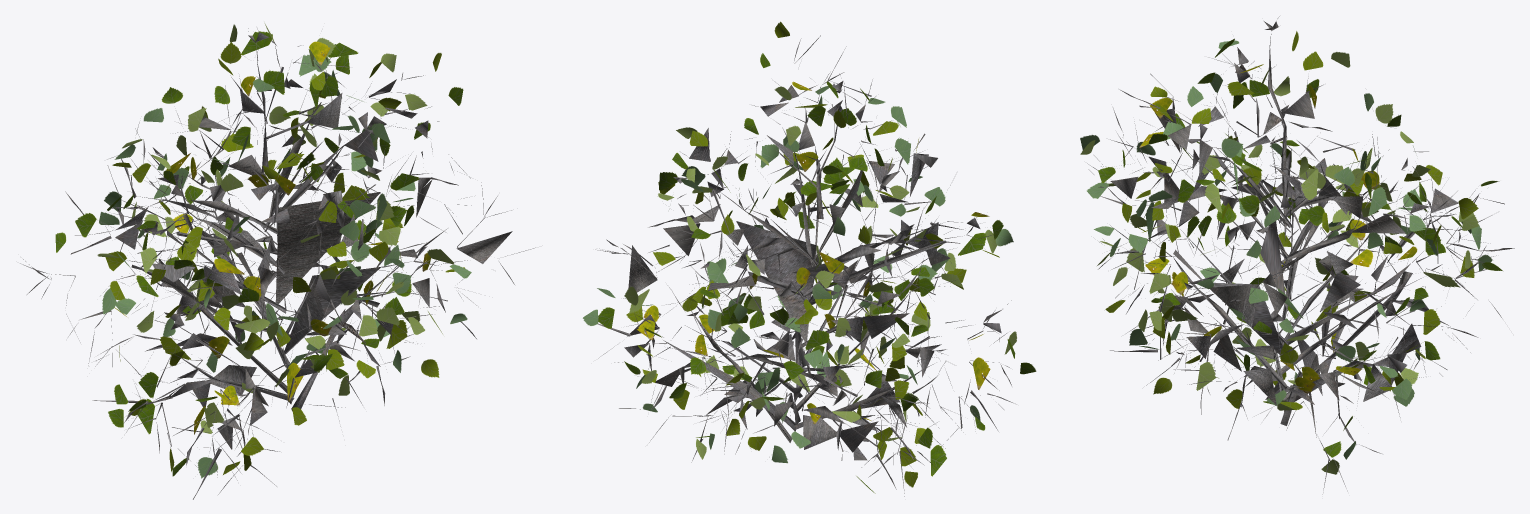
File: bush-far.glb
3 views of the same model, side by side, from view 1: azimuth 30°, elevation 25°; view 2: azimuth 150°, elevation 25°; view 3: azimuth 270°, elevation 25° (orthographic). The views are drawn at different scales.
Parts seen in each view (by area): view 1: Bush 3 (smaller).003, Bush 3 (smaller).001, Bush 3 (smaller).004, Bush 3 (smaller).005, Bush 3 (smaller), Bush 3 (smaller).002; view 2: Bush 3 (smaller).003, Bush 3 (smaller).001, Bush 3 (smaller), Bush 3 (smaller).004, Bush 3 (smaller).005, Bush 3 (smaller).002; view 3: Bush 3 (smaller).003, Bush 3 (smaller), Bush 3 (smaller).005, Bush 3 (smaller).004, Bush 3 (smaller).001, Bush 3 (smaller).002.
Boxes of the visible parts, left/top/right/bottom form: Bush 3 (smaller).003: left=20, top=28, right=535, bottom=499; Bush 3 (smaller).001: left=55, top=31, right=463, bottom=476; Bush 3 (smaller).004: left=105, top=41, right=465, bottom=474; Bush 3 (smaller).005: left=97, top=23, right=454, bottom=433; Bush 3 (smaller): left=99, top=54, right=471, bottom=478; Bush 3 (smaller).002: left=114, top=41, right=430, bottom=434; Bush 3 (smaller).003: left=595, top=35, right=1016, bottom=496; Bush 3 (smaller).001: left=598, top=53, right=1036, bottom=493; Bush 3 (smaller): left=583, top=86, right=1013, bottom=463; Bush 3 (smaller).004: left=626, top=21, right=999, bottom=487; Bush 3 (smaller).005: left=624, top=86, right=1016, bottom=459; Bush 3 (smaller).002: left=637, top=81, right=990, bottom=424; Bush 3 (smaller).003: left=1087, top=16, right=1514, bottom=494; Bush 3 (smaller): left=1080, top=40, right=1492, bottom=459; Bush 3 (smaller).005: left=1080, top=52, right=1478, bottom=474; Bush 3 (smaller).004: left=1105, top=31, right=1478, bottom=410; Bush 3 (smaller).001: left=1098, top=39, right=1502, bottom=457; Bush 3 (smaller).002: left=1139, top=64, right=1417, bottom=393.
Bounding box in the file's own units: 1.07 × 1.02 × 0.9378.
6 materials, 6 textured.
